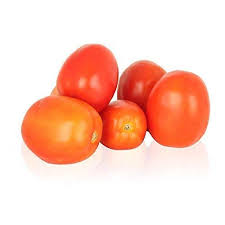tomato: (20, 94, 100, 166), (146, 67, 210, 149), (103, 98, 145, 152)
